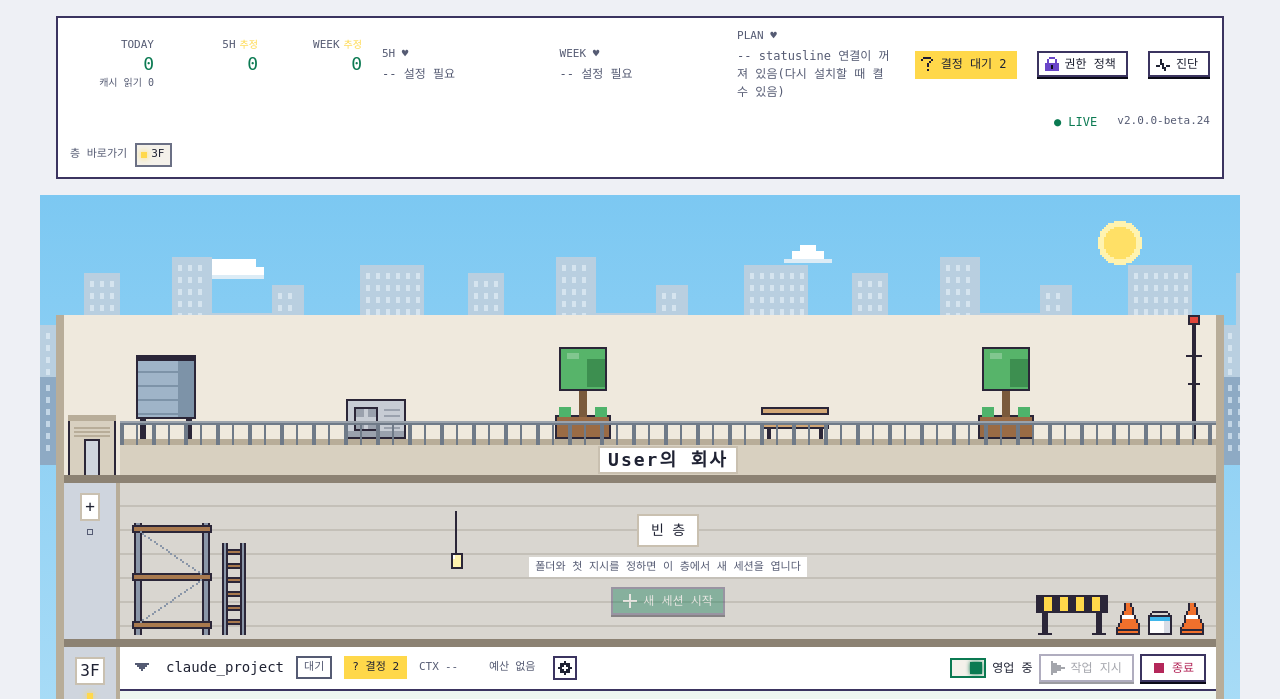
it: 결정 보고서 열기 › ‹ ›로 결정을 넘긴다
Click the button with aria-label "결정 대기 2건, 다음 요청 열기" at (966, 64), box [915,51,1016,77]
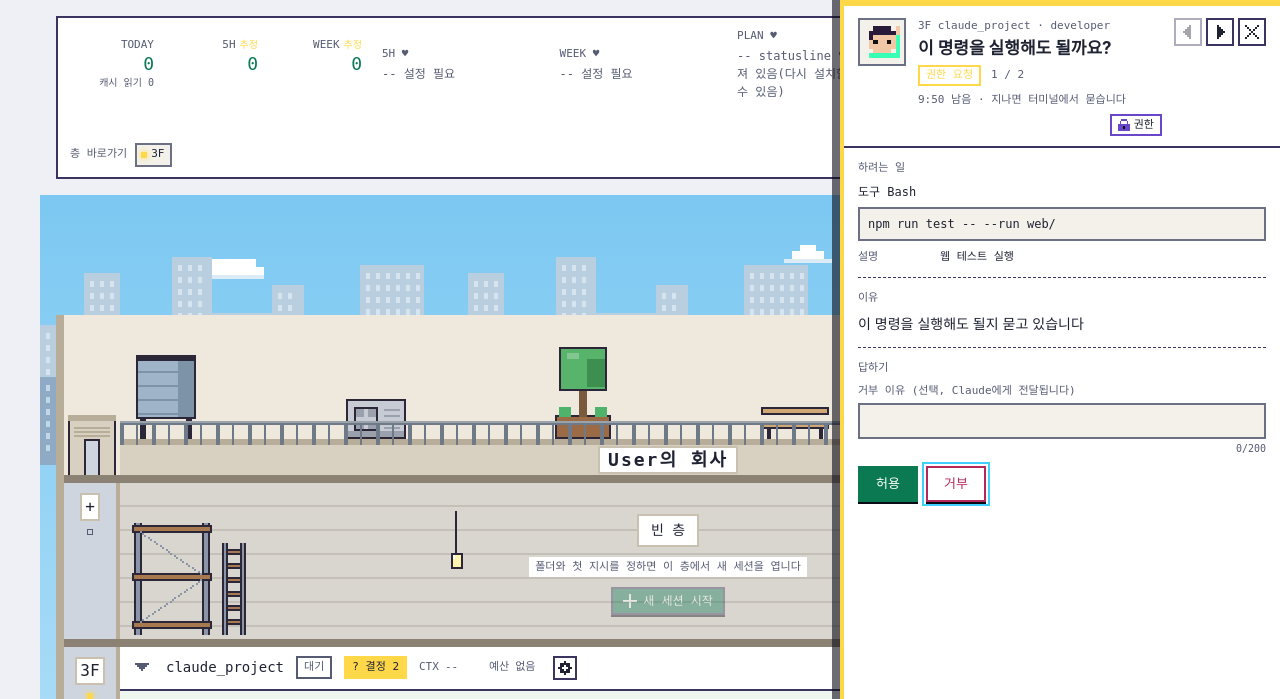
Result: the button named "이전 결정" is disabled at [1174,18,1202,46]
Click the button named "다음 결정" at (1220, 32), box [1206,18,1234,46]
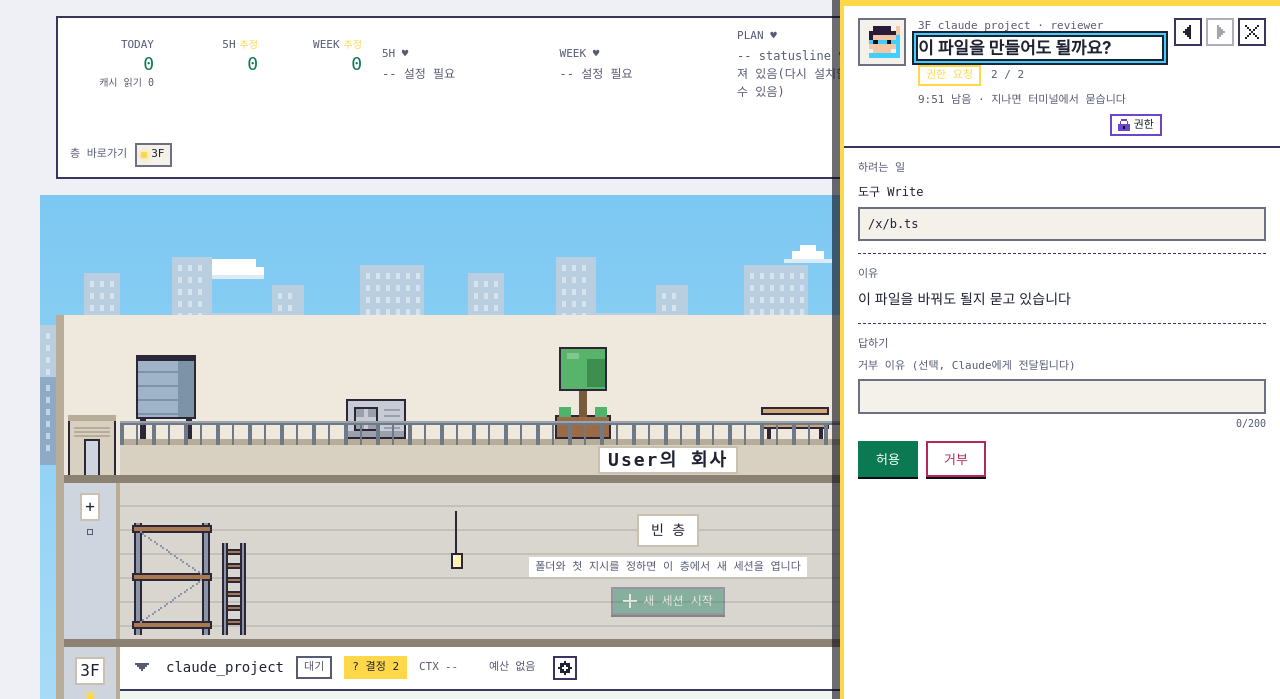
Result: the dialog shows "2 / 2" at [991,68,1024,81]
Result: the heading "이 파일을 만들어도 될까요?" is shown at [918,36,1162,59]
Result: the button named "다음 결정" is disabled at [1206,18,1234,46]
Click the button named "이전 결정" at (1188, 32), box [1174,18,1202,46]
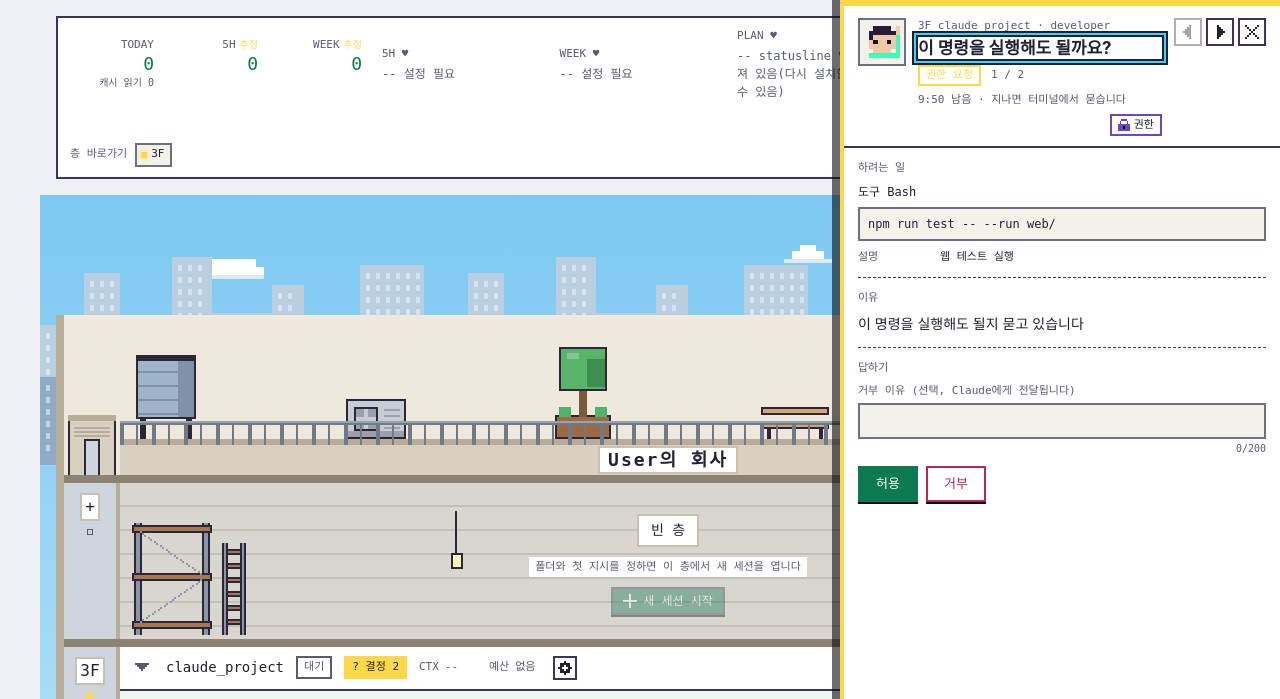
Result: the dialog shows "1 / 2" at [991,68,1024,81]
